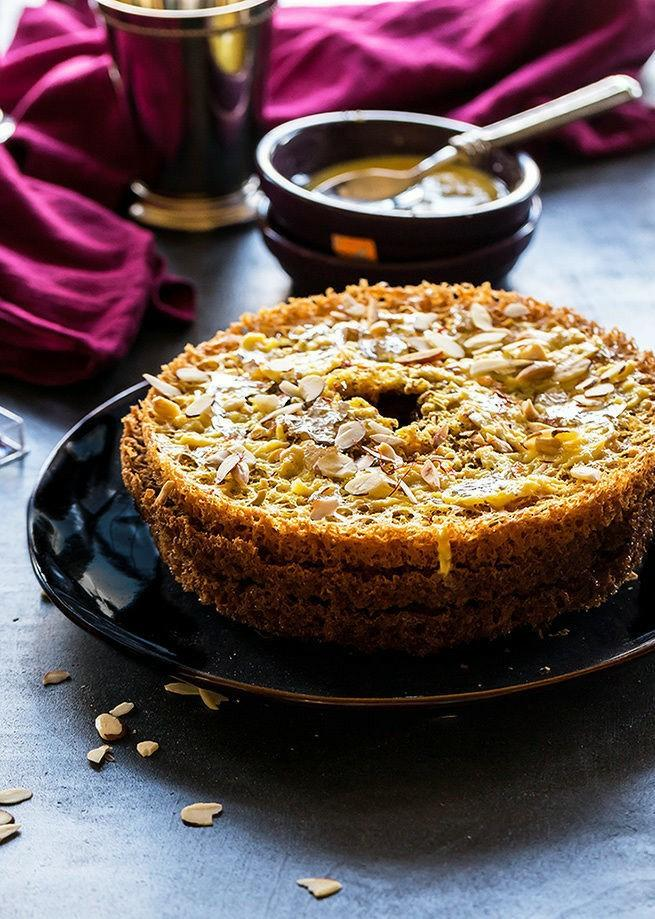Ghevar: (117, 282, 655, 657)
